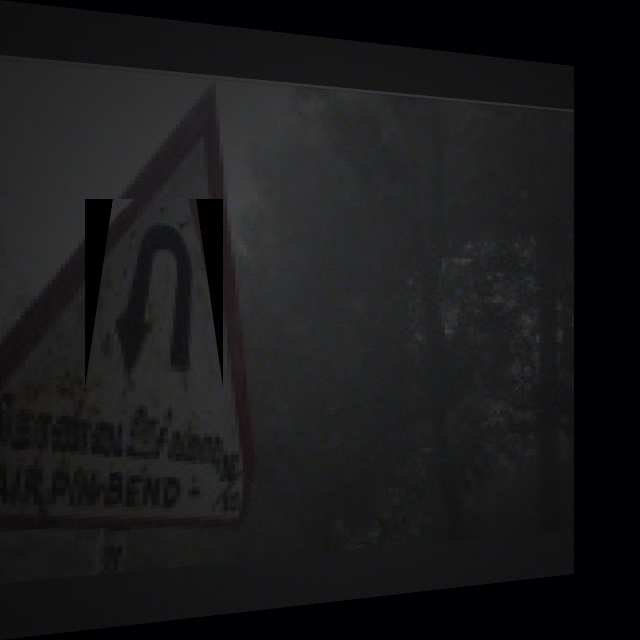Left_Hair_Pin_Bend: (85, 199, 223, 388)
